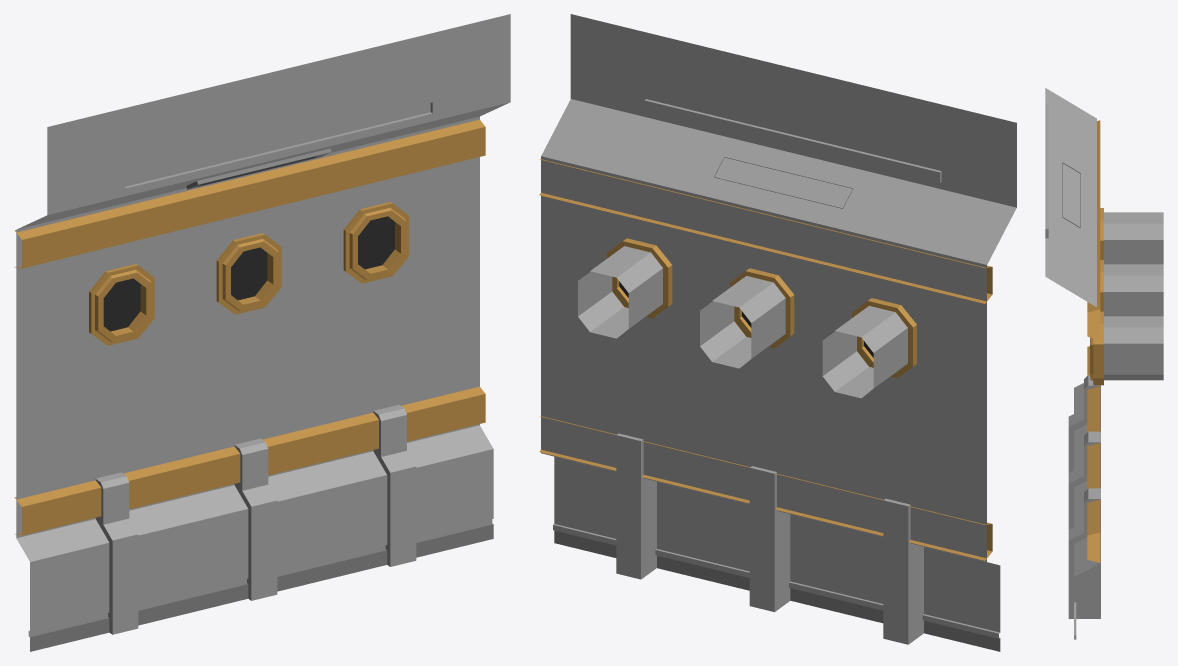
File: SmallWindows_Wall_SideA.fbx
The picture shows the model from 3 angles, left to right: view 1: azimuth 30°, elevation 25°; view 2: azimuth 150°, elevation 25°; view 3: azimuth 270°, elevation 25°; orthographic projection. The views are drawn at different scales.
Visible parts, largest first — view 1: SmallWindows_Wall_SideA; view 2: SmallWindows_Wall_SideA; view 3: SmallWindows_Wall_SideA.
Boxes of the visible parts, x1,y1,x2,y2 form: SmallWindows_Wall_SideA: (14,14,510,651); SmallWindows_Wall_SideA: (539,14,1016,651); SmallWindows_Wall_SideA: (1045,88,1163,639).
Size of the model in its own units: 4 by 4.43 by 1.06.
